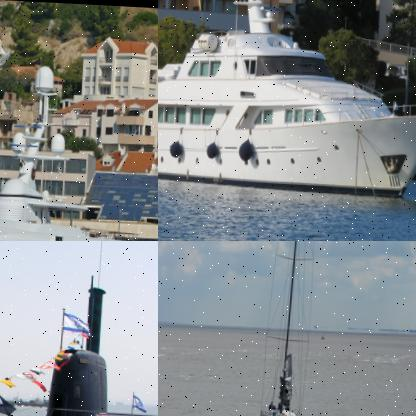Sails Boat: (250, 241, 325, 415)
Submarine: (0, 241, 157, 415)
Yacht: (158, 0, 415, 201), (0, 54, 157, 240)
